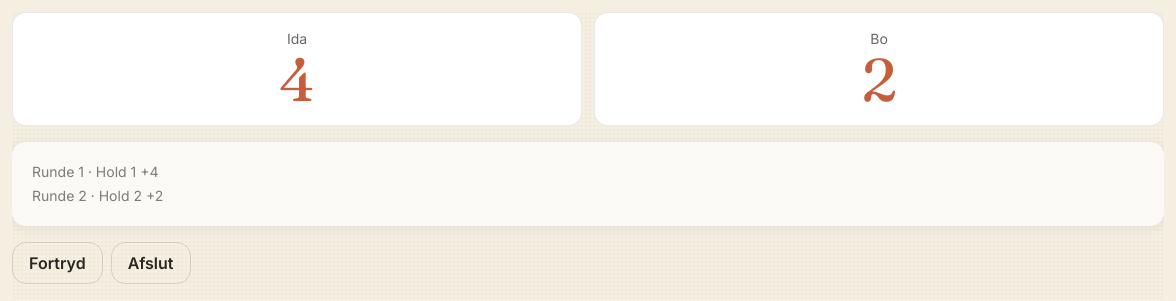
Test: LiveMatchPage › undo removes the last end
Click the button "Fortryd". click: (57, 263)
box: x1=12 y1=242 x2=103 y2=284
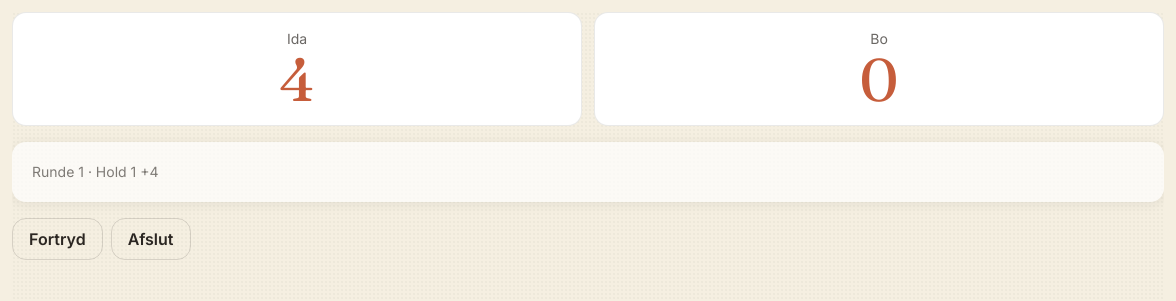
Result: the button "2" is gone
